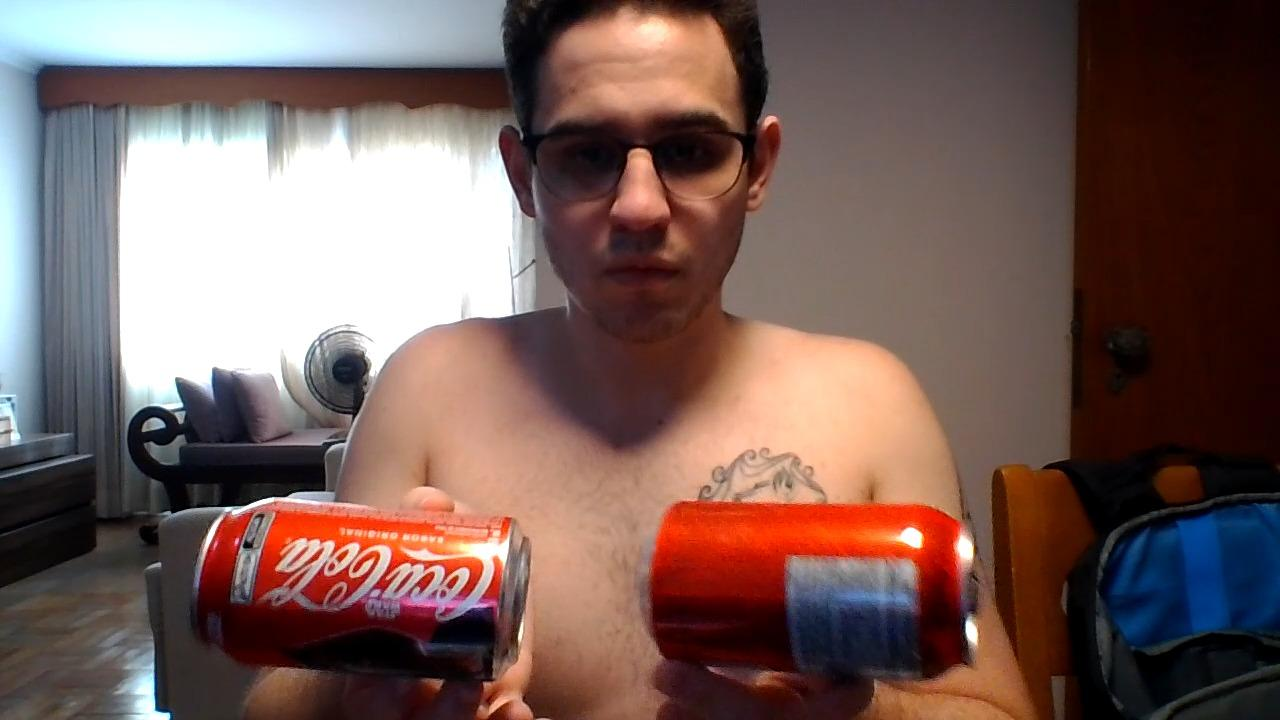coke: (184, 498, 536, 684), (645, 500, 978, 680)
